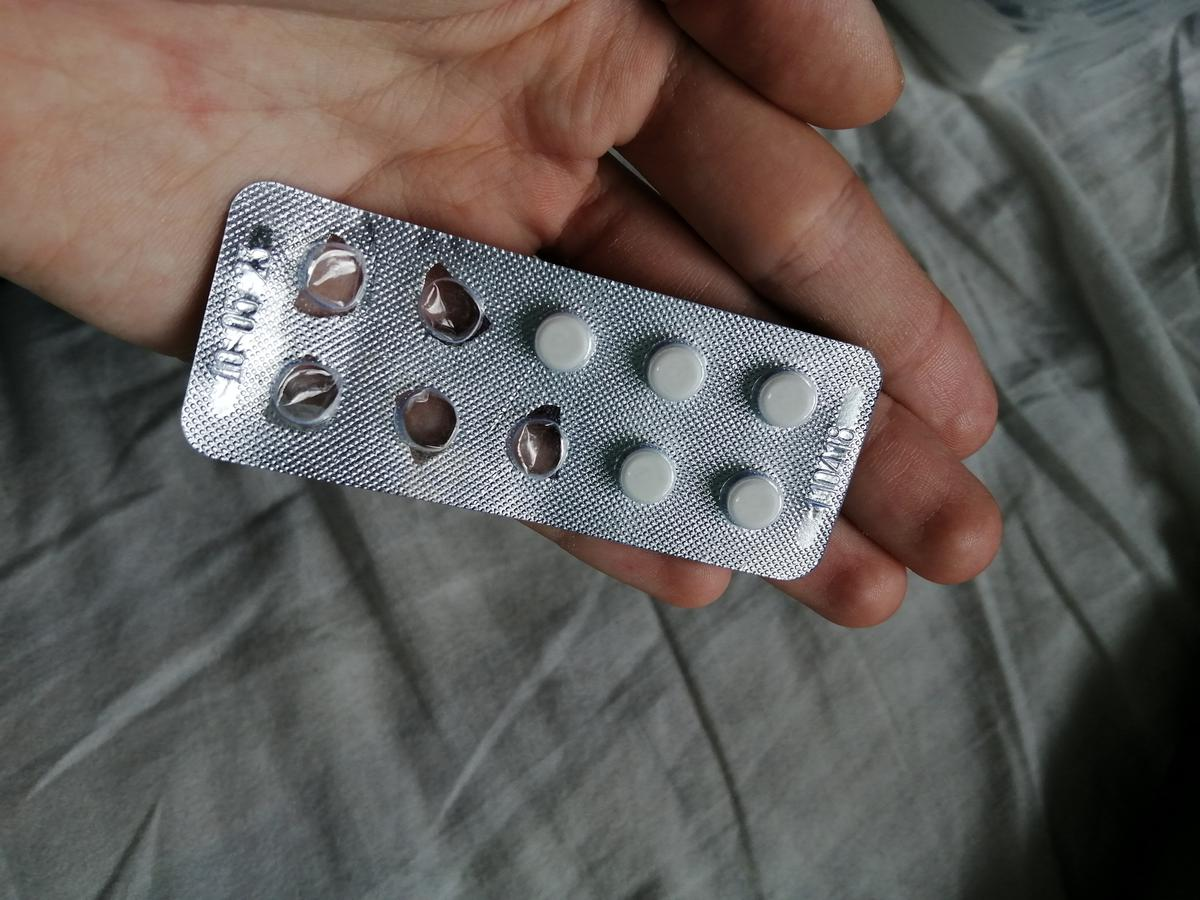tablet: (643, 338, 712, 406), (532, 306, 595, 377), (611, 442, 677, 508), (754, 368, 819, 433), (720, 470, 784, 533)
